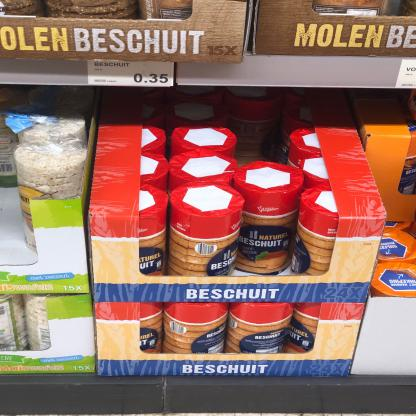prtg: (88, 61, 175, 87), (396, 60, 416, 90)
